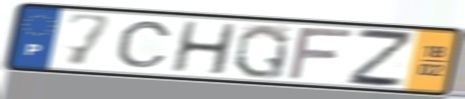7: (64, 11, 113, 70)
C: (114, 19, 176, 70)
F: (284, 27, 358, 82)
H: (167, 20, 239, 77)
Q: (230, 22, 292, 81)
Z: (345, 26, 414, 89)
